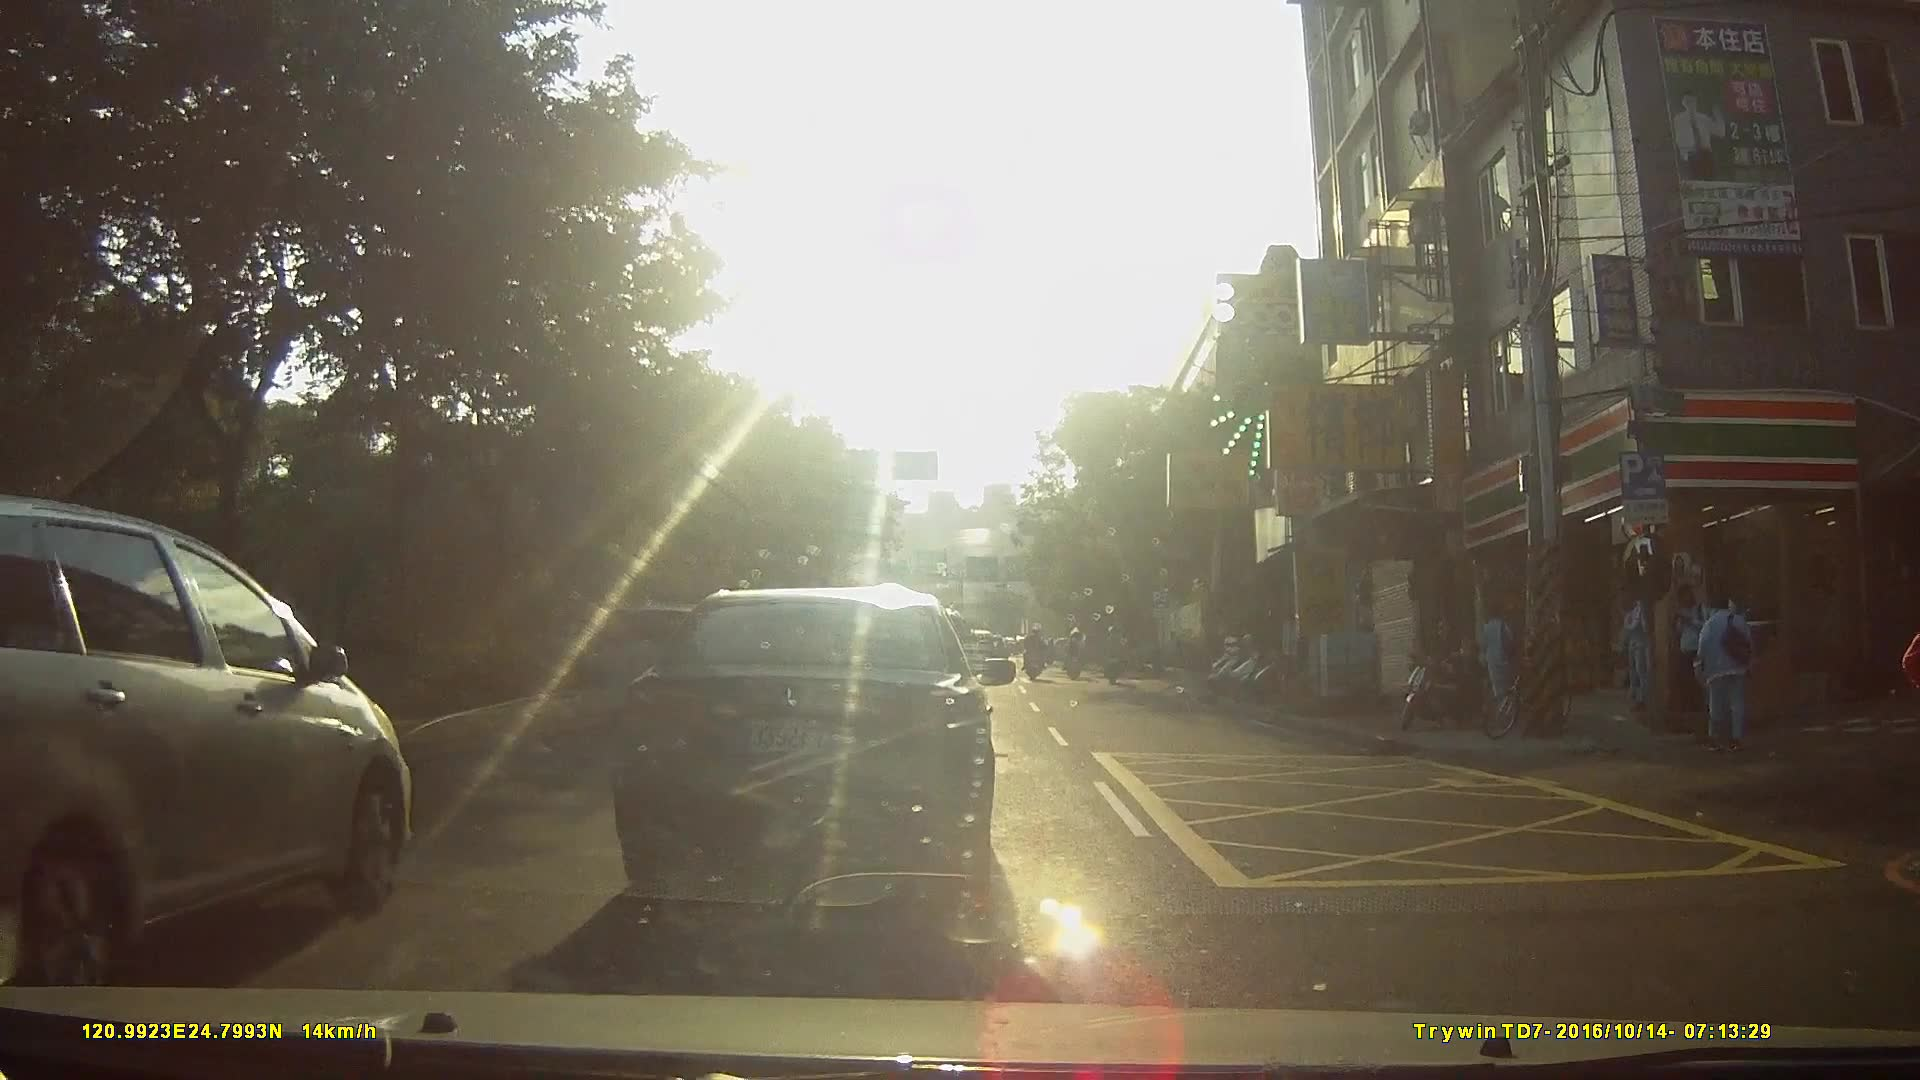pedestrian: (1696, 586, 1760, 752), (1473, 602, 1527, 717), (1679, 572, 1715, 711), (1618, 583, 1655, 708)
rider: (1062, 622, 1091, 684), (1022, 625, 1052, 681), (1102, 623, 1127, 689)
vehicle: (1, 505, 460, 982), (585, 576, 1032, 914)
